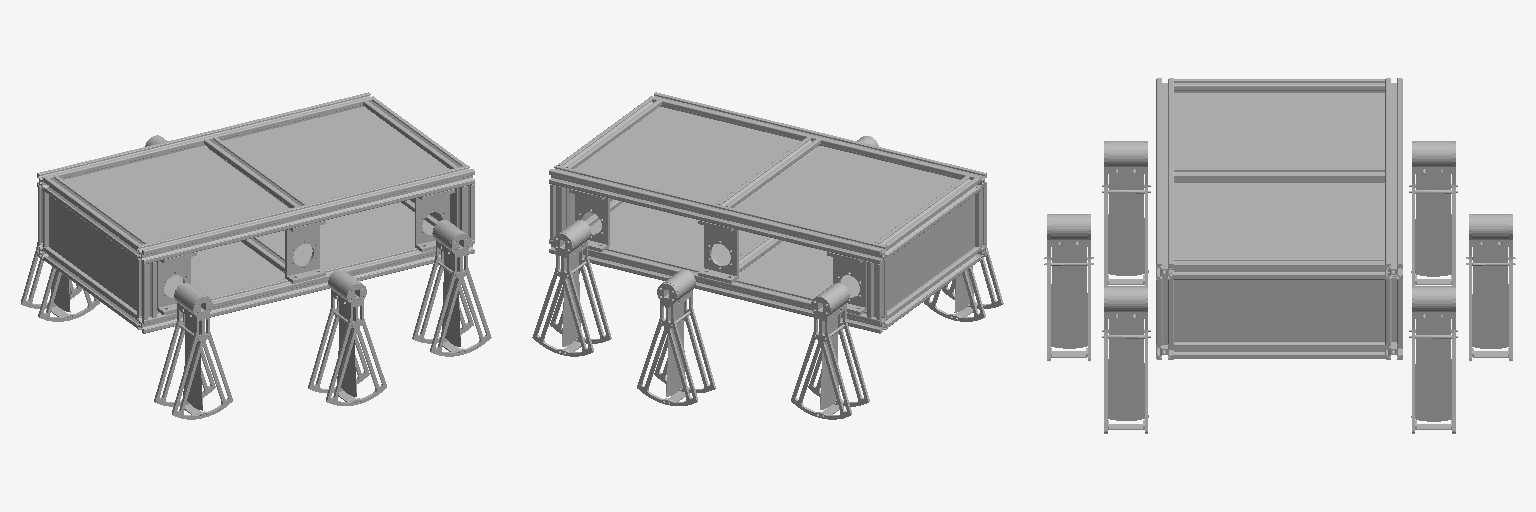
URDF robot description (two_robot):
<robot
  name="two_robot">
  <link
    name="base_link">
    <inertial>
      <origin
        xyz="0.250039208129731 0.0584396863666036 0.119264108531146"
        rpy="0 0 0" />
      <mass
        value="4" />
      <inertia
        ixx="0.2"
        ixy="0"
        ixz="0"
        iyy="0.2771"
        iyz="0"
        izz="0.2771" />
    </inertial>
    <visual>
      <origin
        xyz="0 0 0"
        rpy="0 0 0" />
      <geometry>
        <mesh
          filename="package://two_robot/meshes/base_link.STL" />
      </geometry>
      <material
        name="">
        <color
          rgba="0.752941176470588 0.752941176470588 0.752941176470588 1" />
      </material>
    </visual>
    <collision>
      <origin
        xyz="0 0 0"
        rpy="0 0 0" />
      <geometry>
        <mesh
          filename="package://two_robot/meshes/base_link.STL" />
      </geometry>
    </collision>
  </link>
  <link
    name="leg1">
    <inertial>
      <origin
        xyz="0 -0.0513140366185233 -0.02800000000006"
        rpy="0 0 0" />
      <mass
        value="2" />
      <inertia
        ixx="0.00071359955535991"
        ixy="6.37735898118155E-07"
        ixz="-4.30305240781727E-16"
        iyy="9.55528011055232E-05"
        iyz="-6.11418614570661E-17"
        izz="0.000694431360588034" />
    </inertial>
    <visual>
      <origin
        xyz="0 0 0"
        rpy="0 0 0" />
      <geometry>
        <mesh
          filename="package://two_robot/meshes/leg1.STL" />
      </geometry>
      <material
        name="">
        <color
          rgba="0.752941176470588 0.752941176470588 0.752941176470588 1" />
      </material>
    </visual>
    <collision>
      <origin
        xyz="0 0 0"
        rpy="0 0 0" />
      <geometry>
        <mesh
          filename="package://two_robot/meshes/leg1.STL" />
      </geometry>
    </collision>
  </link>
  <joint
    name="f1"
    type="continuous">
    <origin
      xyz="0.055 0.027 0.05"
      rpy="1.5707963 0 0" />
    <parent
      link="base_link" />
    <child
      link="leg1" />
    <axis
      xyz="0 0 1" />
  </joint>
  <link
    name="leg2">
    <inertial>
      <origin
        xyz="8.49062894526798E-05 -0.0513140366184417 -0.028000000000006"
        rpy="0 0 0" />
      <mass
        value="2" />
      <inertia
        ixx="0.000713599555357865"
        ixy="6.3773589813961E-07"
        ixz="-4.30198946233685E-16"
        iyy="9.55528011054895E-05"
        iyz="-6.10860906380391E-17"
        izz="0.000694431360586016" />
    </inertial>
    <visual>
      <origin
        xyz="0 0 0"
        rpy="0 0 0" />
      <geometry>
        <mesh
          filename="package://two_robot/meshes/leg1.STL" />
      </geometry>
      <material
        name="">
        <color
          rgba="0.752941176470588 0.752941176470588 0.752941176470588 1" />
      </material>
    </visual>
    <collision>
      <origin
        xyz="0 0 0"
        rpy="0 0 0" />
      <geometry>
        <mesh
          filename="package://two_robot/meshes/leg1.STL" />
      </geometry>
    </collision>
  </link>
  <joint
    name="f2"
    type="continuous">
    <origin
      xyz="0.25 0.092 0.05"
      rpy="1.5707963 0 0" />
    <parent
      link="base_link" />
    <child
      link="leg2" />
    <axis
      xyz="0 0 1" />
  </joint>
  <link
    name="leg3">
    <inertial>
      <origin
        xyz="0 -0.047080247865748 -0.0280000000000024"
        rpy="0 0 0" />
      <mass
        value="2" />
      <inertia
        ixx="0.000645307879832179"
        ixy="7.07051018732787E-07"
        ixz="-4.33792820858052E-16"
        iyy="8.35177631876733E-05"
        iyz="-2.35736560203942E-17"
        izz="0.000630301042894038" />
    </inertial>
    <visual>
      <origin
        xyz="0 0 0"
        rpy="0 0 0" />
      <geometry>
        <mesh
          filename="package://two_robot/meshes/leg1.STL" />
      </geometry>
      <material
        name="">
        <color
          rgba="0.752941176470588 0.752941176470588 0.752941176470588 1" />
      </material>
    </visual>
    <collision>
      <origin
        xyz="0 0 0"
        rpy="0 0 0" />
      <geometry>
        <mesh
          filename="package://two_robot/meshes/leg1.STL" />
      </geometry>
    </collision>
  </link>
  <joint
    name="f3"
    type="continuous">
    <origin
      xyz="0.445 0.027 0.05"
      rpy="1.5707963 0 0" />
    <parent
      link="base_link" />
    <child
      link="leg3" />
    <axis
      xyz="0 0 1" />
  </joint>
  <link
    name="leg4">
    <inertial>
      <origin
        xyz="1.24930959363168E-05 -0.049118408671998 -0.0280088220846436"
        rpy="0 0 0" />
      <mass
        value="2" />
      <inertia
        ixx="0.000686976993493218"
        ixy="1.01837682881422E-07"
        ixz="-6.57447800737562E-21"
        iyy="8.2560582005291E-05"
        iyz="-3.01409757760955E-19"
        izz="0.000732349480000924" />
    </inertial>
    <visual>
      <origin
        xyz="0 0 0"
        rpy="0 0 0" />
      <geometry>
        <mesh
          filename="package://two_robot/meshes/leg1.STL" />
      </geometry>
      <material
        name="">
        <color
          rgba="0.752941176470588 0.752941176470588 0.752941176470588 1" />
      </material>
    </visual>
    <collision>
      <origin
        xyz="0 0 0"
        rpy="0 0 0" />
      <geometry>
        <mesh
          filename="package://two_robot/meshes/leg1.STL" />
      </geometry>
    </collision>
  </link>
  <joint
    name="f4"
    type="continuous">
    <origin
      xyz="0.445 -0.2663 0.05"
      rpy="1.5707963 0 3.1416" />
    <parent
      link="base_link" />
    <child
      link="leg4" />
    <axis
      xyz="0 0 -1" />
  </joint>
  <link
    name="leg5">
    <inertial>
      <origin
        xyz="-1.01522765634243E-05 -0.063078582626003 0.0280089323374999"
        rpy="0 0 0" />
      <mass
        value="2" />
      <inertia
        ixx="0.000937345284994574"
        ixy="-5.0454943021875E-08"
        ixz="-1.40610226055501E-09"
        iyy="0.000122183378166643"
        iyz="2.69437910896951E-09"
        izz="0.00101131254995923" />
    </inertial>
    <visual>
      <origin
        xyz="0 0 0"
        rpy="0 0 0" />
      <geometry>
        <mesh
          filename="package://two_robot/meshes/leg1.STL" />
      </geometry>
      <material
        name="">
        <color
          rgba="0.752941176470588 0.752941176470588 0.752941176470588 1" />
      </material>
    </visual>
    <collision>
      <origin
        xyz="0 0 0"
        rpy="0 0 0" />
      <geometry>
        <mesh
          filename="package://two_robot/meshes/leg1.STL" />
      </geometry>
    </collision>
  </link>
  <joint
    name="f5"
    type="continuous">
    <origin
      xyz="0.25 -0.3313 0.05"
      rpy="1.5707963 0 3.1416" />
    <parent
      link="base_link" />
    <child
      link="leg5" />
    <axis
      xyz="0 0 -1" />
  </joint>
  <link
    name="leg6">
    <inertial>
      <origin
        xyz="-1.19396238670993E-05 -0.0538873837772517 0.0280088220810167"
        rpy="0 0 0" />
      <mass
        value="2" />
      <inertia
        ixx="0.000785894362894106"
        ixy="-9.03935348606885E-08"
        ixz="6.6781596423007E-13"
        iyy="8.87346159420206E-05"
        iyz="-6.00159741930854E-14"
        izz="0.000836826299557749" />
    </inertial>
    <visual>
      <origin
        xyz="0 0 0"
        rpy="0 0 0" />
      <geometry>
        <mesh
          filename="package://two_robot/meshes/leg1.STL" />
      </geometry>
      <material
        name="">
        <color
          rgba="0.752941176470588 0.752941176470588 0.752941176470588 1" />
      </material>
    </visual>
    <collision>
      <origin
        xyz="0 0 0"
        rpy="0 0 0" />
      <geometry>
        <mesh
          filename="package://two_robot/meshes/leg1.STL" />
      </geometry>
    </collision>
  </link>
  <joint
    name="f6"
    type="continuous">
    <origin
      xyz="0.055 -0.2663 0.05"
      rpy="1.5708 0 3.1416" />
    <parent
      link="base_link" />
    <child
      link="leg6" />
    <axis
      xyz="0 0 -1" />
  </joint>

  
  
  <link name="camera_link">
        <visual>
            <origin xyz=" 0 0 0 " rpy="0 0 0" />
            <geometry>
              <mesh
          	filename="model://kinect/meshes/kinect.dae" />
            </geometry>
            <material name="white">
                <color rgba="0 0 0 0.95"/>
            </material>
        </visual>
  </link>
 
  <joint name="camera_joint" type="fixed">
        <origin xyz="-0.012 -0.116 0.155" rpy="0 0.62832 3.1416"/>
        <parent link="base_link"/>
        <child link="camera_link"/>
  </joint>
 
  <gazebo reference="camera_link"> <!--这一步说明插件作用的对象-->
            <sensor type="depth" name="camera">
            <update_rate>30.0</update_rate> <!--摄像头频率-->
            <camera name="head">
                <horizontal_fov>1.3962634</horizontal_fov> <!--摄像头可视范围-->
                <image>
                    <width>640</width> <!--分辨率-->
                    <height>480</height>
                    <format>R8G8B8</format> <!--数据格式-->
                </image>
                <clip>
                    <near>0.01</near> <!--最近距离-->
                    <far>300</far> <!--最远距离-->
                </clip>
            </camera>
            <!--加载相机插件-->
            <plugin name="kinect_camera_controller" filename="libgazebo_ros_openni_kinect.so">
                <alwaysOn>true</alwaysOn>
                <updateRate>10</updateRate>
                <cameraName>camera</cameraName> <!--命名空间-->
                <imageTopicName>rgb/image_raw</imageTopicName> <!--发布话题名-->
                <!--发布的相机信息-->
                <depthImageTopicName>depth/image_raw</depthImageTopicName>
		<pointCloudTopicName>depth/points</pointCloudTopicName>
                <cameraInfoTopicName>rgb/camera_info</cameraInfoTopicName>
		<depthImageCameraInfoTopicName>depth/camera_info</depthImageCameraInfoTopicName>
                <frameName>base_link</frameName>
                <baseline>0.1</baseline>
		<distortion_k1>0.0</distortion_k1>
		<distortion_k2>0.0</distortion_k2>
		<distortion_k3>0.0</distortion_k3>
		<distortion_t1>0.0</distortion_t1>
		<distortion_t2>0.0</distortion_t2>
                <pointCloudCutoff>0.1</pointCloudCutoff>
            </plugin>
        </sensor>
  </gazebo>

  
  <transmission name="tran1">
    <type>transmission_interface/SimpleTransmission</type>
    <joint name="f1">
      <hardwareInterface>hardware_interface/VelocityJointInterface</hardwareInterface>
    </joint>
    <actuator name="motor1">
      <hardwareInterface>VelocityJointInterface</hardwareInterface>
      <mechanicalReduction>1</mechanicalReduction>
    </actuator>
    
  </transmission>
  

  <transmission name="tran2">
    <type>transmission_interface/SimpleTransmission</type>
    <joint name="f2">
      <hardwareInterface>hardware_interface/VelocityJointInterface</hardwareInterface>
    </joint>
    <actuator name="motor2">
      <hardwareInterface>VelocityJointInterface</hardwareInterface>
      <mechanicalReduction>1</mechanicalReduction>
    </actuator>
  </transmission>
  
  <transmission name="tran3">
    <type>transmission_interface/SimpleTransmission</type>
    <joint name="f3">
      <hardwareInterface>hardware_interface/VelocityJointInterface</hardwareInterface>
    </joint>
    <actuator name="motor3">
      <hardwareInterface>VelocityJointInterface</hardwareInterface>
      <mechanicalReduction>1</mechanicalReduction>
    </actuator>
  </transmission>
  
  <transmission name="tran4">
    <type>transmission_interface/SimpleTransmission</type>
    <joint name="f4">
      <hardwareInterface>hardware_interface/VelocityJointInterface</hardwareInterface>
    </joint>
    <actuator name="motor4">
      <hardwareInterface>VelocityJointInterface</hardwareInterface>
      <mechanicalReduction>1</mechanicalReduction>
    </actuator>
  </transmission>  

  <transmission name="tran5">
    <type>transmission_interface/SimpleTransmission</type>
    <joint name="f5">
      <hardwareInterface>hardware_interface/VelocityJointInterface</hardwareInterface>
    </joint>
    <actuator name="motor5">
      <hardwareInterface>VelocityJointInterface</hardwareInterface>
      <mechanicalReduction>1</mechanicalReduction>
    </actuator>
  </transmission>

  <transmission name="tran6">
    <type>transmission_interface/SimpleTransmission</type>
    <joint name="f6">
      <hardwareInterface>hardware_interface/VelocityJointInterface</hardwareInterface>
    </joint>
    <actuator name="motor6">
      <hardwareInterface>VelocityJointInterface</hardwareInterface>
      <mechanicalReduction>1</mechanicalReduction>
    </actuator>
  </transmission>

  

  <gazebo>
    <plugin name="gazebo_ros_control" filename="libgazebo_ros_control.so">
       <robotNamespace>/two_robot</robotNamespace>     
    </plugin>
  </gazebo>
  
  <gazebo>  
    <plugin name="gps" filename="libhector_gazebo_ros_gps.so">  
      <updateRate>10.0</updateRate>  
      <topicName>sensor_msgs/NavSatFix</topicName>  
      <gaussianNoise>0.0 0.0 0.0</gaussianNoise>  
      <offset>0 0 0</offset>  
      <velocityGaussianNoise>0 0 0</velocityGaussianNoise>  
      <frameId>base_link</frameId>  
    </plugin>  
  </gazebo>  

  <gazebo reference="base_link">
    <gravity>true</gravity>
    <sensor name="imu_sensor" type="imu">
      <always_on>true</always_on>
      <update_rate>100</update_rate>
      <visualize>true</visualize>
      <topic>__default_topic__</topic>
      <plugin filename="libgazebo_ros_imu_sensor.so" name="imu_plugin">
        <topicName>imu</topicName>
        <bodyName>base_link</bodyName>
        <updateRateHZ>10.0</updateRateHZ>
        <gaussianNoise>0.0</gaussianNoise>
        <xyzOffset>0 0 0</xyzOffset>
        <rpyOffset>0 0 0</rpyOffset>
        <frameName>imu_link</frameName>
      </plugin>
      <pose>0 0 0 0 0 0</pose>
    </sensor>
  </gazebo>

</robot>

--- Render facts (derived) ---
The picture shows the robot from 3 angles, left to right: view 1: azimuth 30°, elevation 25°; view 2: azimuth 150°, elevation 25°; view 3: azimuth 270°, elevation 25°; orthographic projection.
Robot: two_robot — 8 links, 7 joints (6 continuous, 1 fixed); root link base_link; default pose: every joint at zero.
Visible links, largest first — view 1: base_link, leg6, leg5, leg4, leg1; view 2: base_link, leg1, leg3, leg2, leg6; view 3: base_link, leg3, leg2, leg5, leg1, leg4, leg6.
Link boxes in pixels (left/top/right/bottom): base_link: left=37, top=92, right=474, bottom=333; leg6: left=154, top=283, right=232, bottom=419; leg5: left=308, top=270, right=386, bottom=405; leg4: left=412, top=220, right=491, bottom=356; leg1: left=21, top=247, right=99, bottom=321; base_link: left=549, top=92, right=986, bottom=333; leg1: left=791, top=283, right=869, bottom=419; leg3: left=532, top=220, right=611, bottom=356; leg2: left=637, top=270, right=715, bottom=405; leg6: left=924, top=247, right=1003, bottom=321; base_link: left=1156, top=78, right=1402, bottom=359; leg3: left=1409, top=286, right=1457, bottom=433; leg2: left=1466, top=214, right=1515, bottom=360; leg5: left=1044, top=214, right=1093, bottom=360; leg1: left=1409, top=141, right=1457, bottom=285; leg4: left=1102, top=286, right=1150, bottom=433; leg6: left=1102, top=141, right=1150, bottom=285.
Size in the robot's own frame: 0.5 by 0.5353 by 0.231 metres.
Meshes: 3 distinct files referenced, 7 mesh visuals loaded (2 binary STL); not drawn: 1 (reference not matched to a file when rendering).